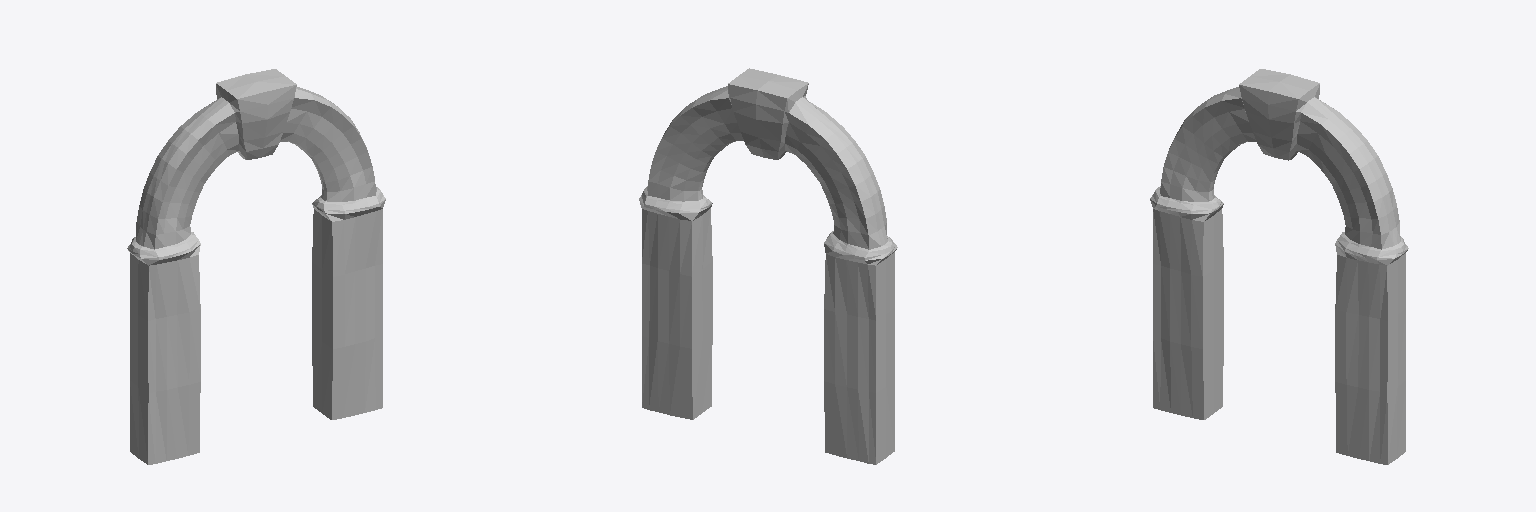
The model's file is StoneArch.OBJ.
3 renders of one model, left to right at view 1: azimuth 30°, elevation 25°; view 2: azimuth 150°, elevation 25°; view 3: azimuth 330°, elevation 25°, orthographic.
Parts seen in each view (by area): view 1: ZBrush_defualt_group; view 2: ZBrush_defualt_group; view 3: ZBrush_defualt_group.
Part boxes in pixels (x1,y1,x2,y2): ZBrush_defualt_group: (127,69,385,464); ZBrush_defualt_group: (639,68,897,464); ZBrush_defualt_group: (1150,69,1408,464).
Size of the model in its own units: 7.5 by 10.09 by 1.42.